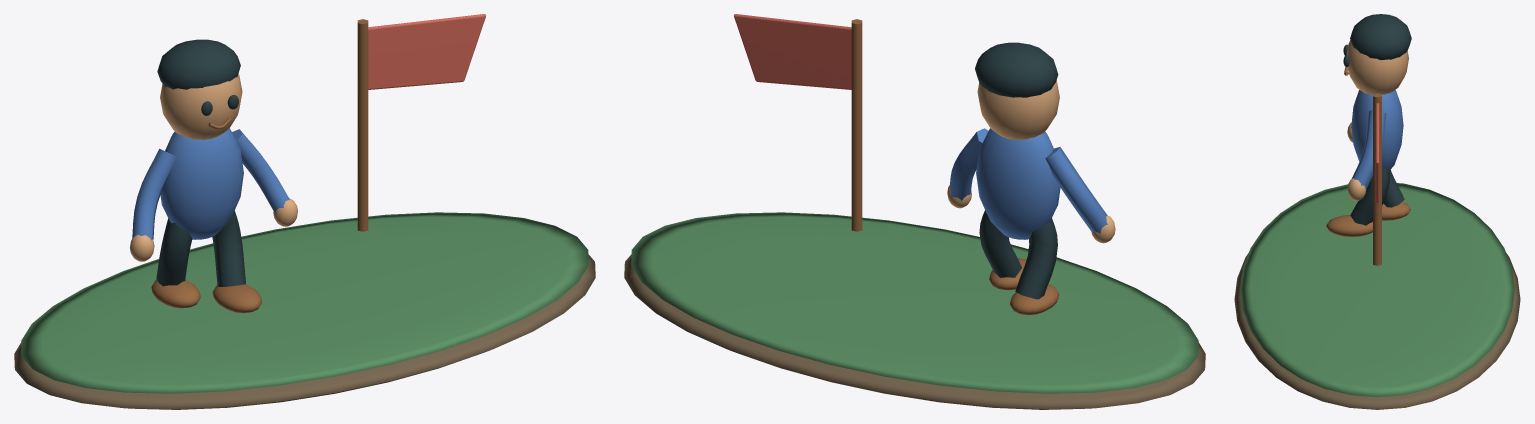
File: beside-edge.glb
3 renders of one model, left to right at view 1: azimuth 30°, elevation 25°; view 2: azimuth 150°, elevation 25°; view 3: azimuth 270°, elevation 25°, orthographic. The views are drawn at different scales.
Parts seen in each view (by area): view 1: beside-edge_surface_01, beside-edge_surface_00, beside-edge_surface_05, beside-edge_surface_03, beside-edge_surface_06, beside-edge_surface_04, beside-edge_surface_02; view 2: beside-edge_surface_01, beside-edge_surface_00, beside-edge_surface_05, beside-edge_surface_03, beside-edge_surface_06, beside-edge_surface_04, beside-edge_surface_02; view 3: beside-edge_surface_01, beside-edge_surface_00, beside-edge_surface_03, beside-edge_surface_05, beside-edge_surface_02, beside-edge_surface_04, beside-edge_surface_06.
Part boxes in pixels (x1,y1,x2,y2): beside-edge_surface_01: (21,212,588,393); beside-edge_surface_00: (14,255,595,409); beside-edge_surface_05: (132,128,289,240); beside-edge_surface_03: (156,39,245,286); beside-edge_surface_06: (368,14,485,89); beside-edge_surface_04: (151,19,368,313); beside-edge_surface_02: (130,74,297,261); beside-edge_surface_01: (631,212,1198,393); beside-edge_surface_00: (624,255,1205,409); beside-edge_surface_05: (949,128,1107,239); beside-edge_surface_03: (975,42,1058,299); beside-edge_surface_06: (734,14,851,89); beside-edge_surface_04: (851,19,1059,315); beside-edge_surface_02: (947,80,1115,243); beside-edge_surface_01: (1240,183,1514,397); beside-edge_surface_00: (1234,253,1520,409); beside-edge_surface_03: (1343,14,1411,225); beside-edge_surface_05: (1351,90,1403,189); beside-edge_surface_02: (1346,40,1408,200); beside-edge_surface_04: (1326,67,1410,265); beside-edge_surface_06: (1375,103,1379,203).
Bounding box in the file's own units: 4.56 × 2.44 × 2.5.
